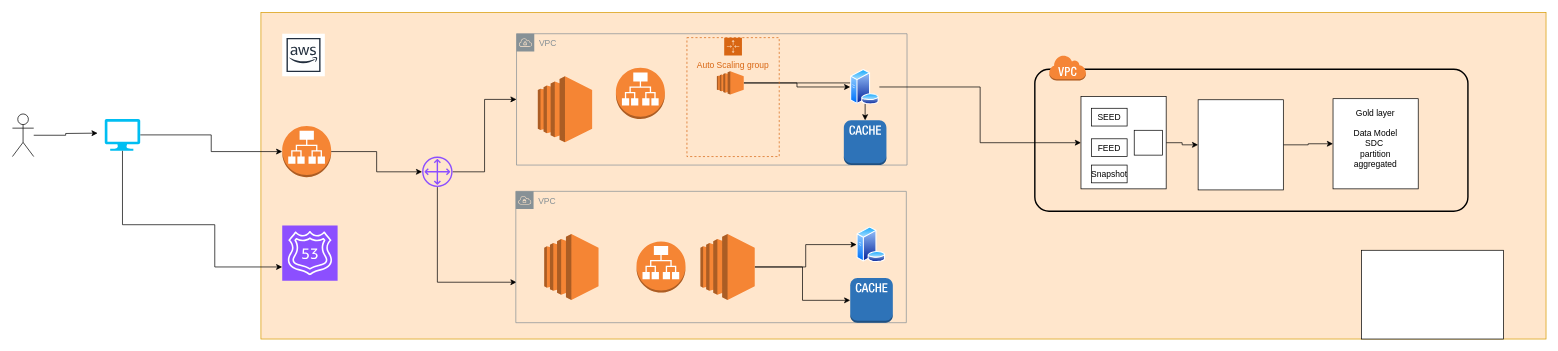
This 1558x351 diagram has some shape labels left out. The centre of each missing label's shape, as x and y in pixels:
"Actor" belongs at pixel 23 135.
"AWS Cloud" belongs at pixel 303 54.
"Silver consolidated, cleanup, lookup etc.," belongs at pixel 1240 144.
"Unified" belongs at pixel 1148 142.
